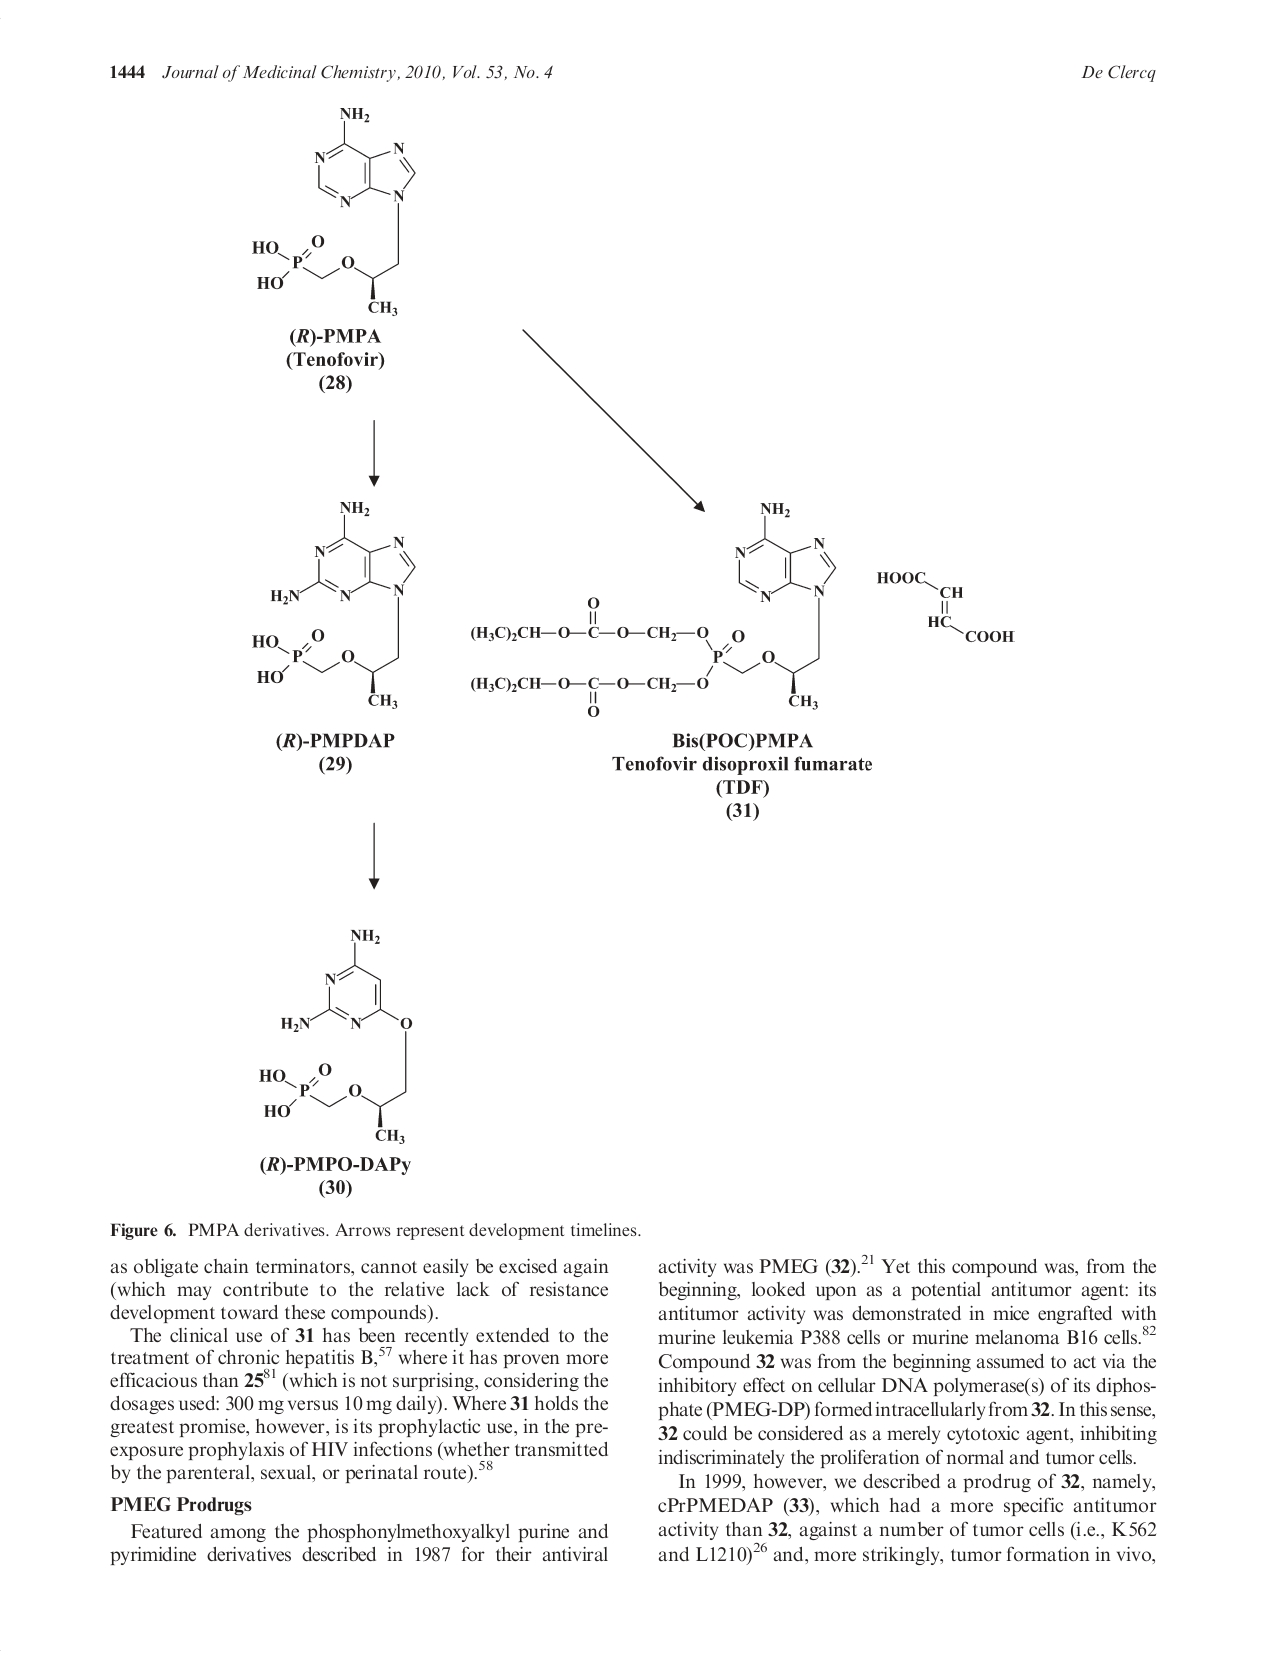exist_molecular: (469, 501, 839, 719), (250, 105, 418, 318), (251, 501, 418, 710), (261, 926, 416, 1146), (876, 567, 1017, 644)
